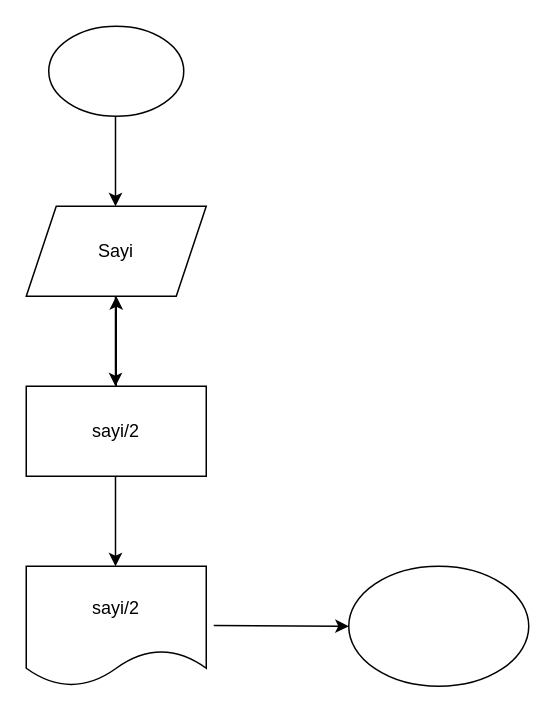
The diagram is 555 pixels wide and 713 high, and some of its shapes have lost their labels. Here are the shapes that lost their labels. From the top down, the centre of each, then its label:
At (115,70): "Başla".
At (438,625): "Bitir".
